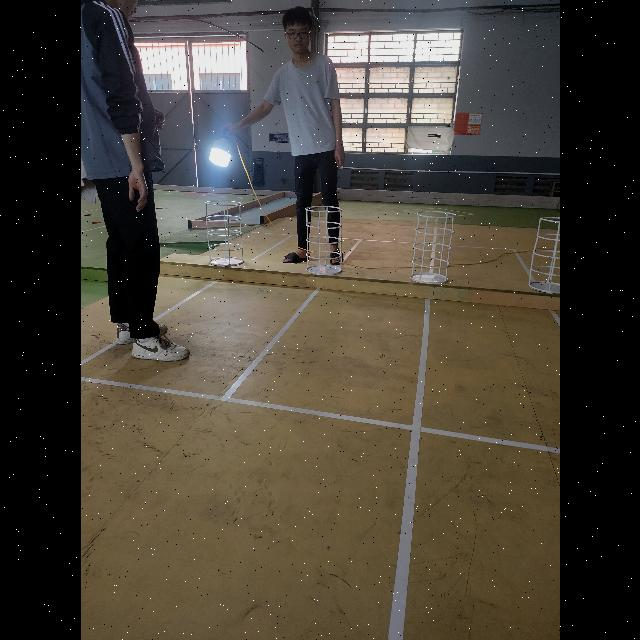S: (409, 209, 456, 286), (303, 203, 343, 277), (525, 216, 560, 296), (203, 199, 244, 267)
